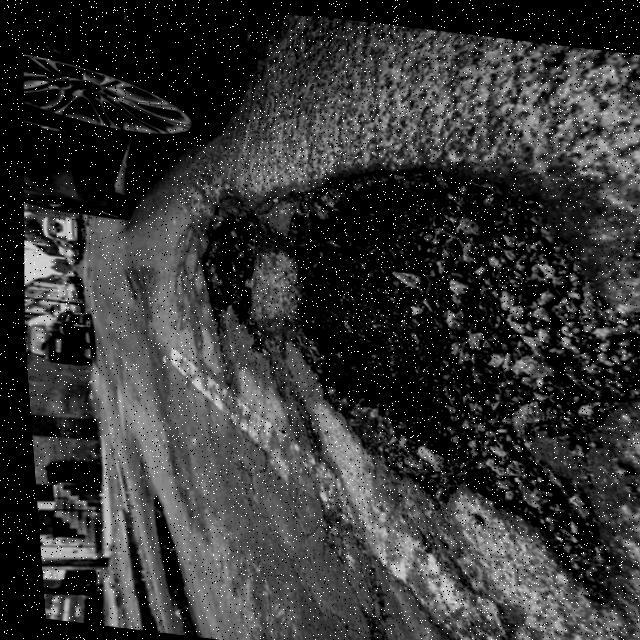pothole: (155, 122, 640, 592)
